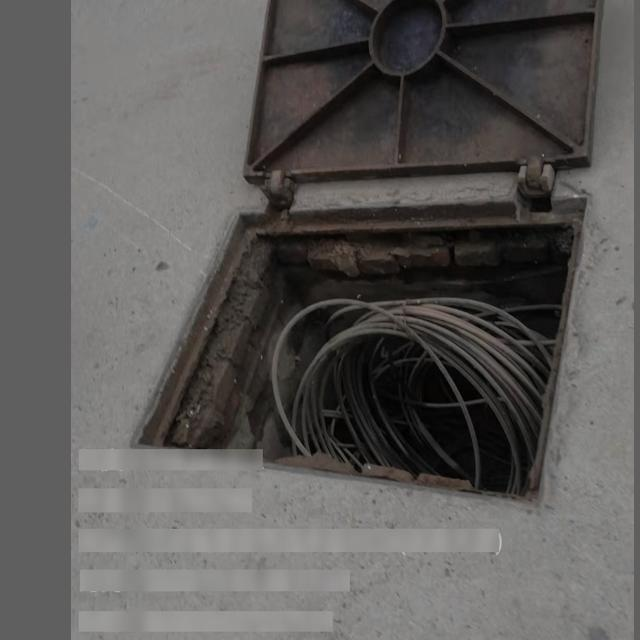uncovered: (138, 0, 613, 510)
